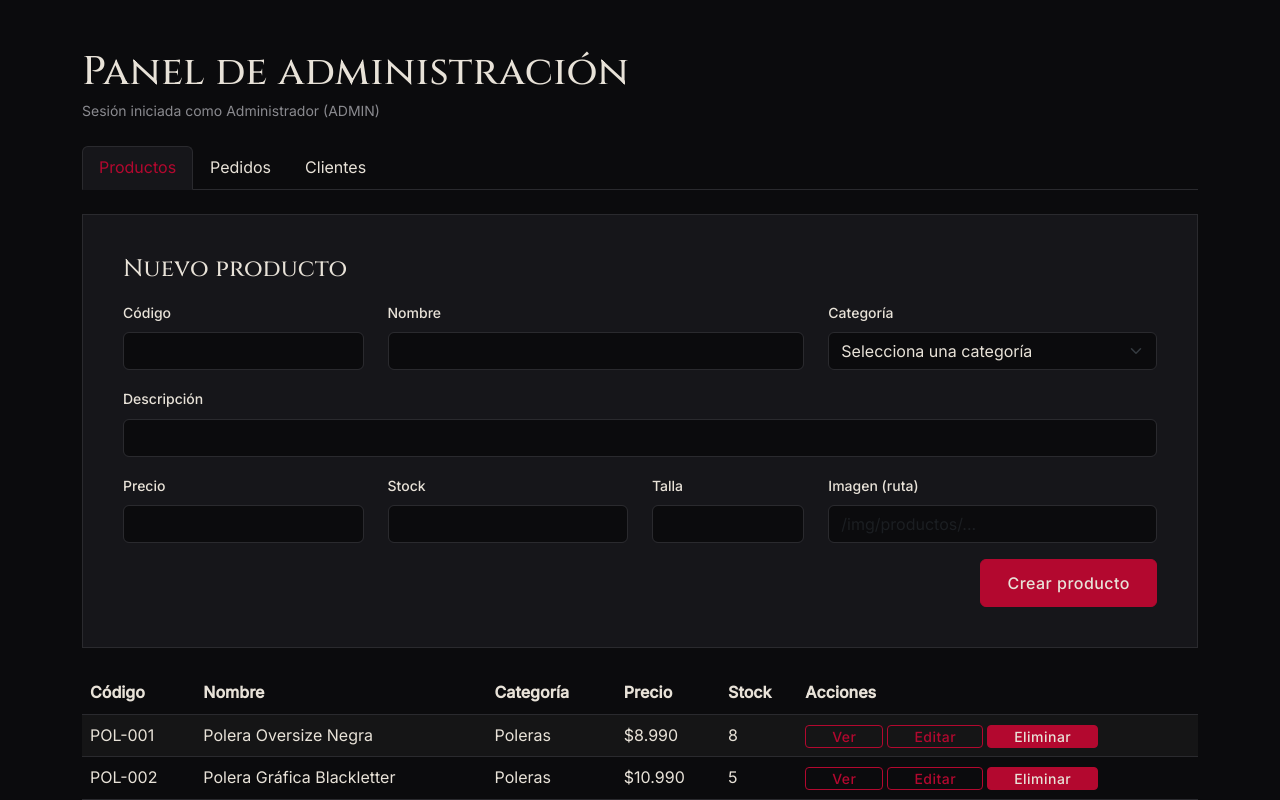
it: Admin (panel por roles) › ADMIN › Cancelar sale del modo edición
Click the button "Editar" in the row of "POL-001" at (935, 736), box [887,725,983,748]
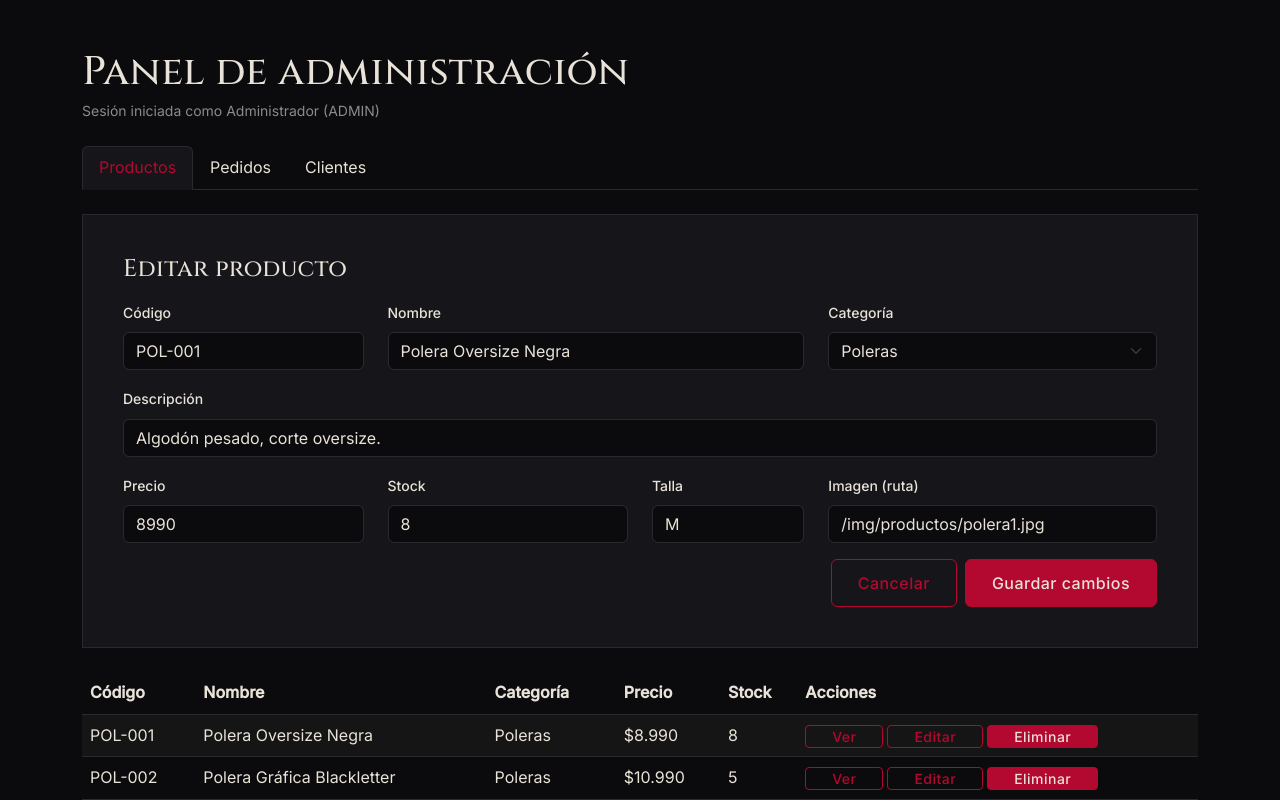
Click the button "Cancelar" at (894, 583), box [831,559,957,607]
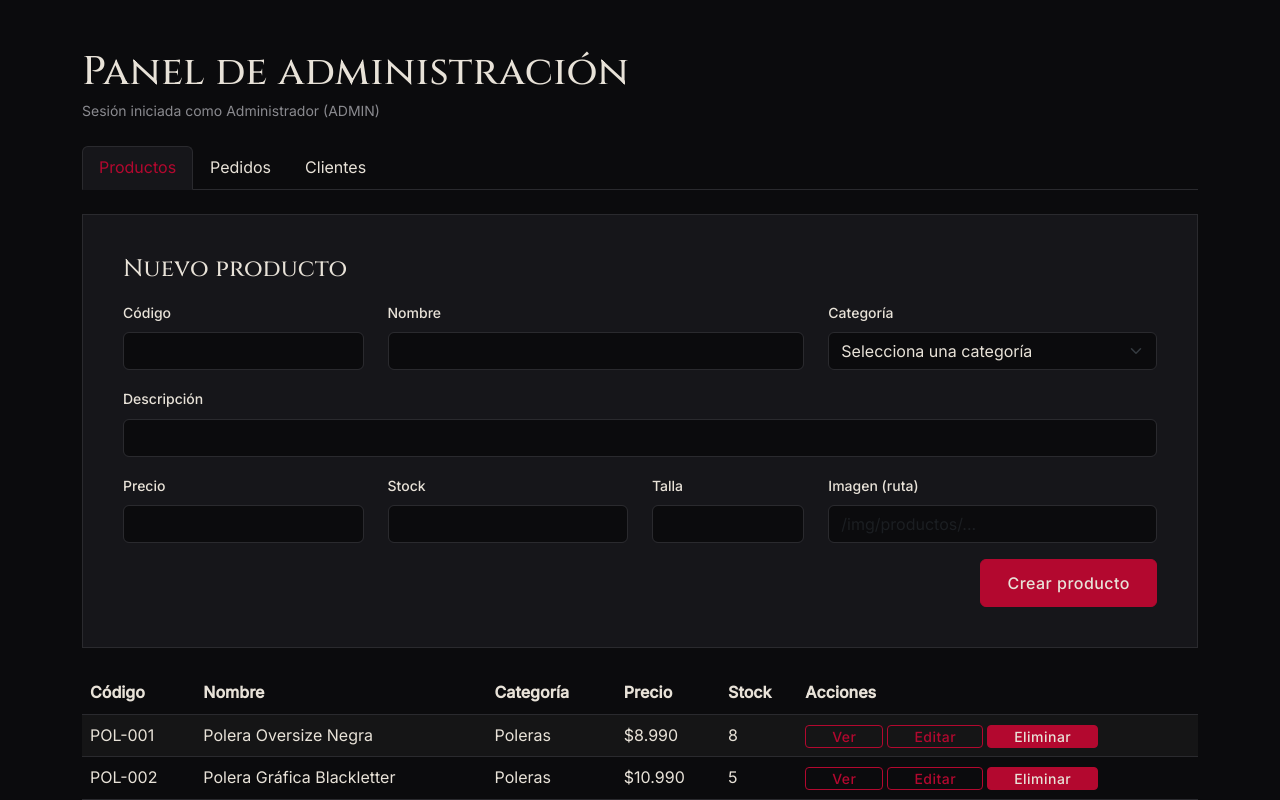
Expected: the heading "Nuevo producto" is shown, [123,253,348,285]
Expected: the field labelled "Nombre" is empty, [388,332,804,370]
